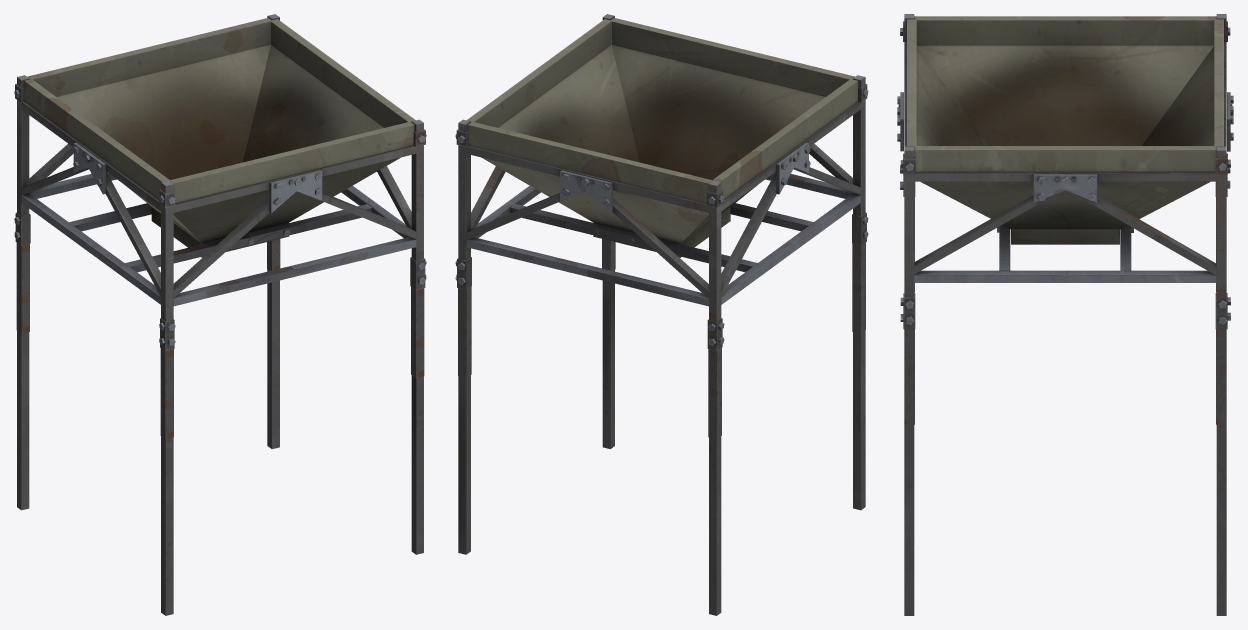
Rendered from Hopper.glb.
3 views of the same model, side by side, from view 1: azimuth 30°, elevation 25°; view 2: azimuth 150°, elevation 25°; view 3: azimuth 270°, elevation 25° (orthographic). The views are drawn at different scales.
Parts seen in each view (by area): view 1: Hopper, Modular_Hopper, ScaleSupportBeam_Metal (2) (×3); view 2: Hopper, Modular_Hopper, ScaleSupportBeam_Metal (2) (×3); view 3: Hopper, Modular_Hopper, ScaleSupportBeam_Metal (2) (×2).
Part boxes in pixels (x1,y1,x2,y2): Hopper: (17, 14, 423, 615); Modular_Hopper: (14, 81, 426, 351); ScaleSupportBeam_Metal (2) (×3): (16, 243, 424, 439); Hopper: (458, 14, 865, 615); Modular_Hopper: (455, 82, 868, 351); ScaleSupportBeam_Metal (2) (×3): (458, 242, 865, 439); Hopper: (898, 14, 1232, 615); Modular_Hopper: (897, 21, 1233, 329); ScaleSupportBeam_Metal (2) (×2): (904, 329, 1226, 424).
Size of what is drawn, in the model's own units: 3.19 by 4.86 by 3.19.
3 materials, 3 textured.
